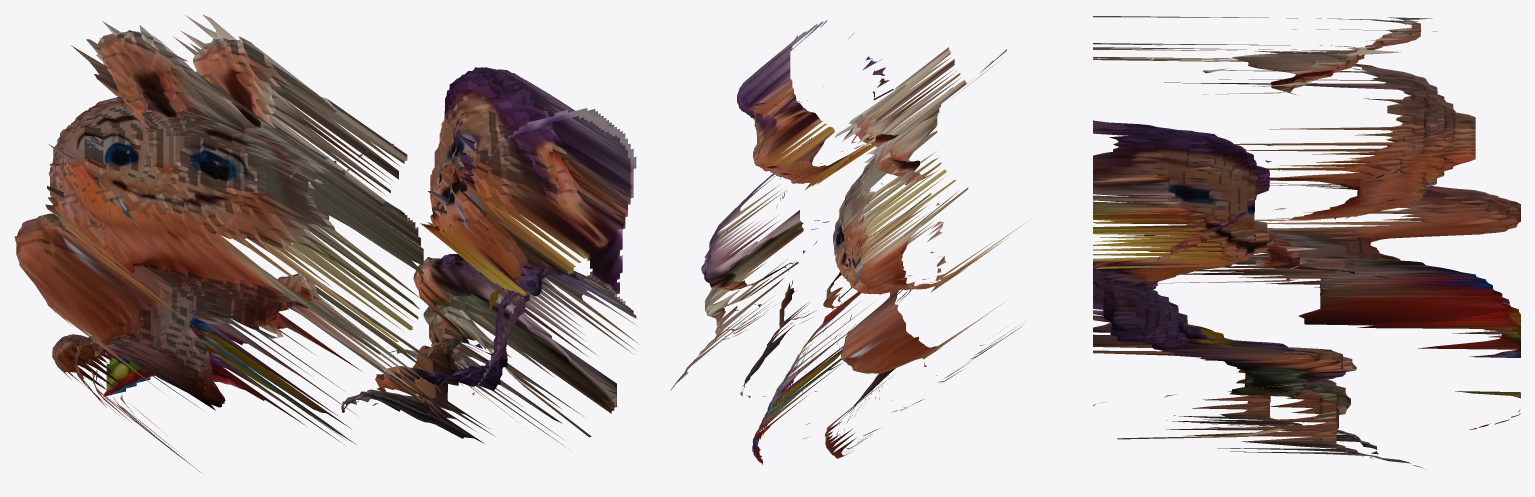
Rendered from frame_00415.glb.
3 renders of one model, left to right at view 1: azimuth 30°, elevation 25°; view 2: azimuth 150°, elevation 25°; view 3: azimuth 270°, elevation 25°, orthographic. The views are drawn at different scales.
Visible parts, largest first — view 1: geometry_0; view 2: geometry_0; view 3: geometry_0.
Boxes of the visible parts, left/top/right/bottom form: geometry_0: left=14, top=14, right=639, bottom=472; geometry_0: left=670, top=20, right=1029, bottom=464; geometry_0: left=1093, top=16, right=1520, bottom=468.
Size of the model in its own units: 0.1476 by 0.1505 by 0.16.
Materials: 1 (1 with a texture image).
